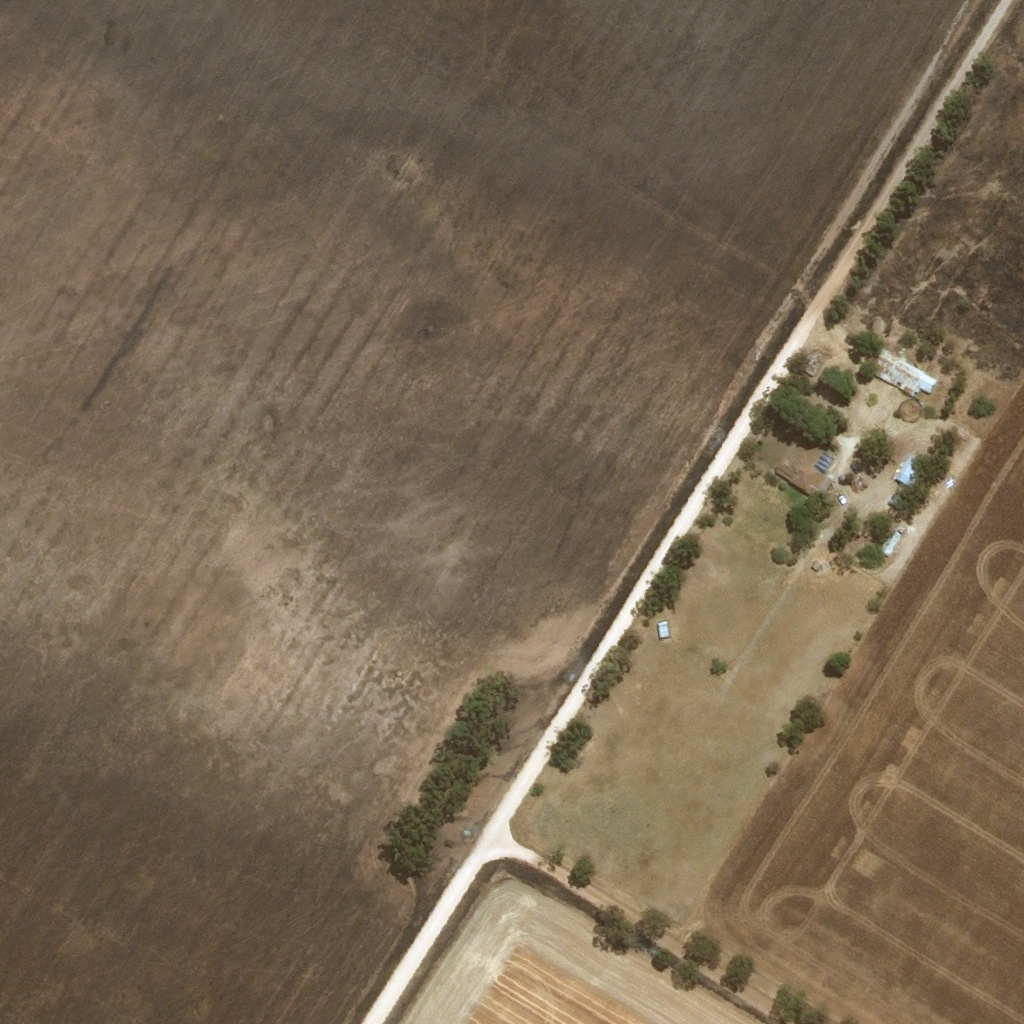0 no-damage: (894, 451, 927, 488), (875, 526, 901, 556), (885, 488, 911, 511), (657, 621, 667, 638)
1 minor-damage: (866, 348, 936, 397)
3 destroyed: (773, 426, 833, 500), (799, 353, 822, 377)
